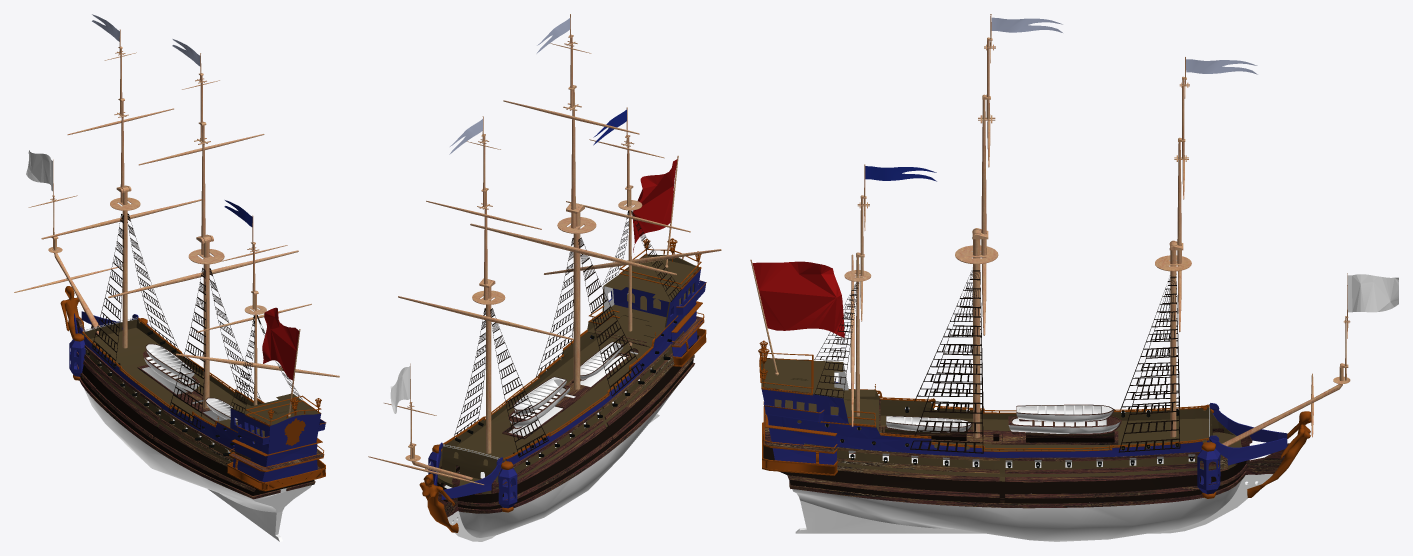
File: ship.FBX
The picture shows the model from 3 angles, left to right: view 1: azimuth 30°, elevation 25°; view 2: azimuth 150°, elevation 25°; view 3: azimuth 270°, elevation 25°; orthographic projection. The views are drawn at different scales.
Visible parts, largest first — view 1: sireescc; view 2: sireescc; view 3: sireescc.
Part boxes in pixels (<box>): sireescc: <box>14,14,339,541</box>; sireescc: <box>368,14,721,541</box>; sireescc: <box>750,14,1398,541</box>.
Size of the model in its own units: 9728 by 20938 by 23729.
